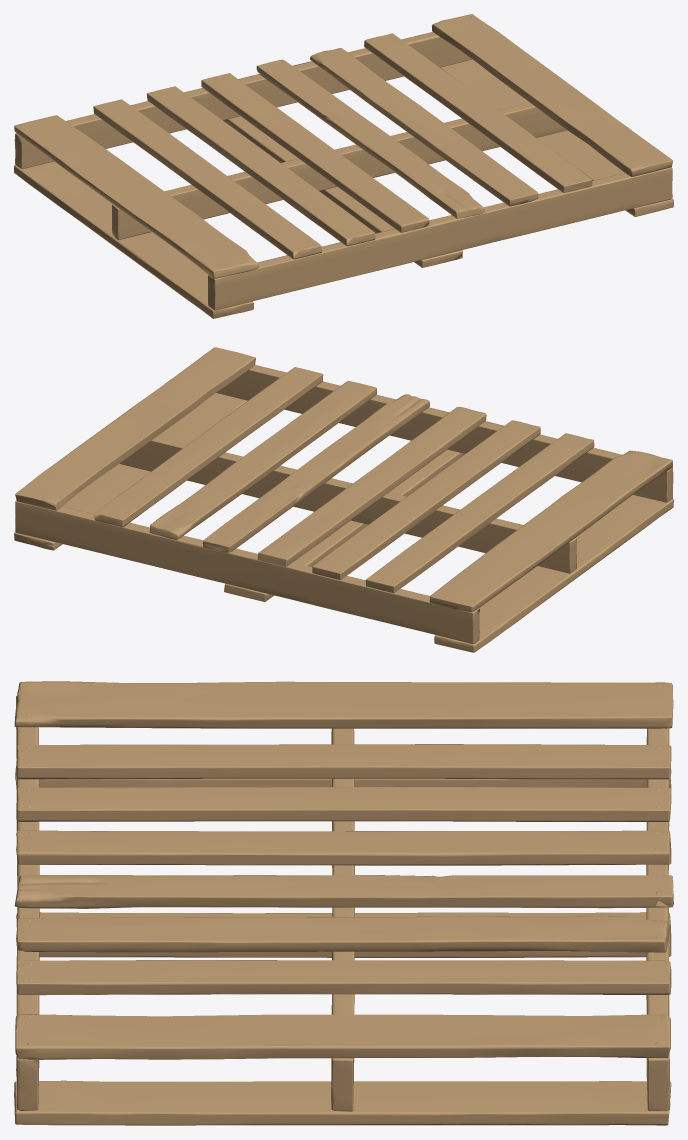
Rendered from pallet_wood_recycled_a05.glb.
3 views of the same model, one above another, from view 1: azimuth 30°, elevation 25°; view 2: azimuth 150°, elevation 25°; view 3: azimuth 270°, elevation 25° (orthographic). The views are drawn at different scales.
Size of the model in its own units: 1.19 by 0.1212 by 0.9046.
